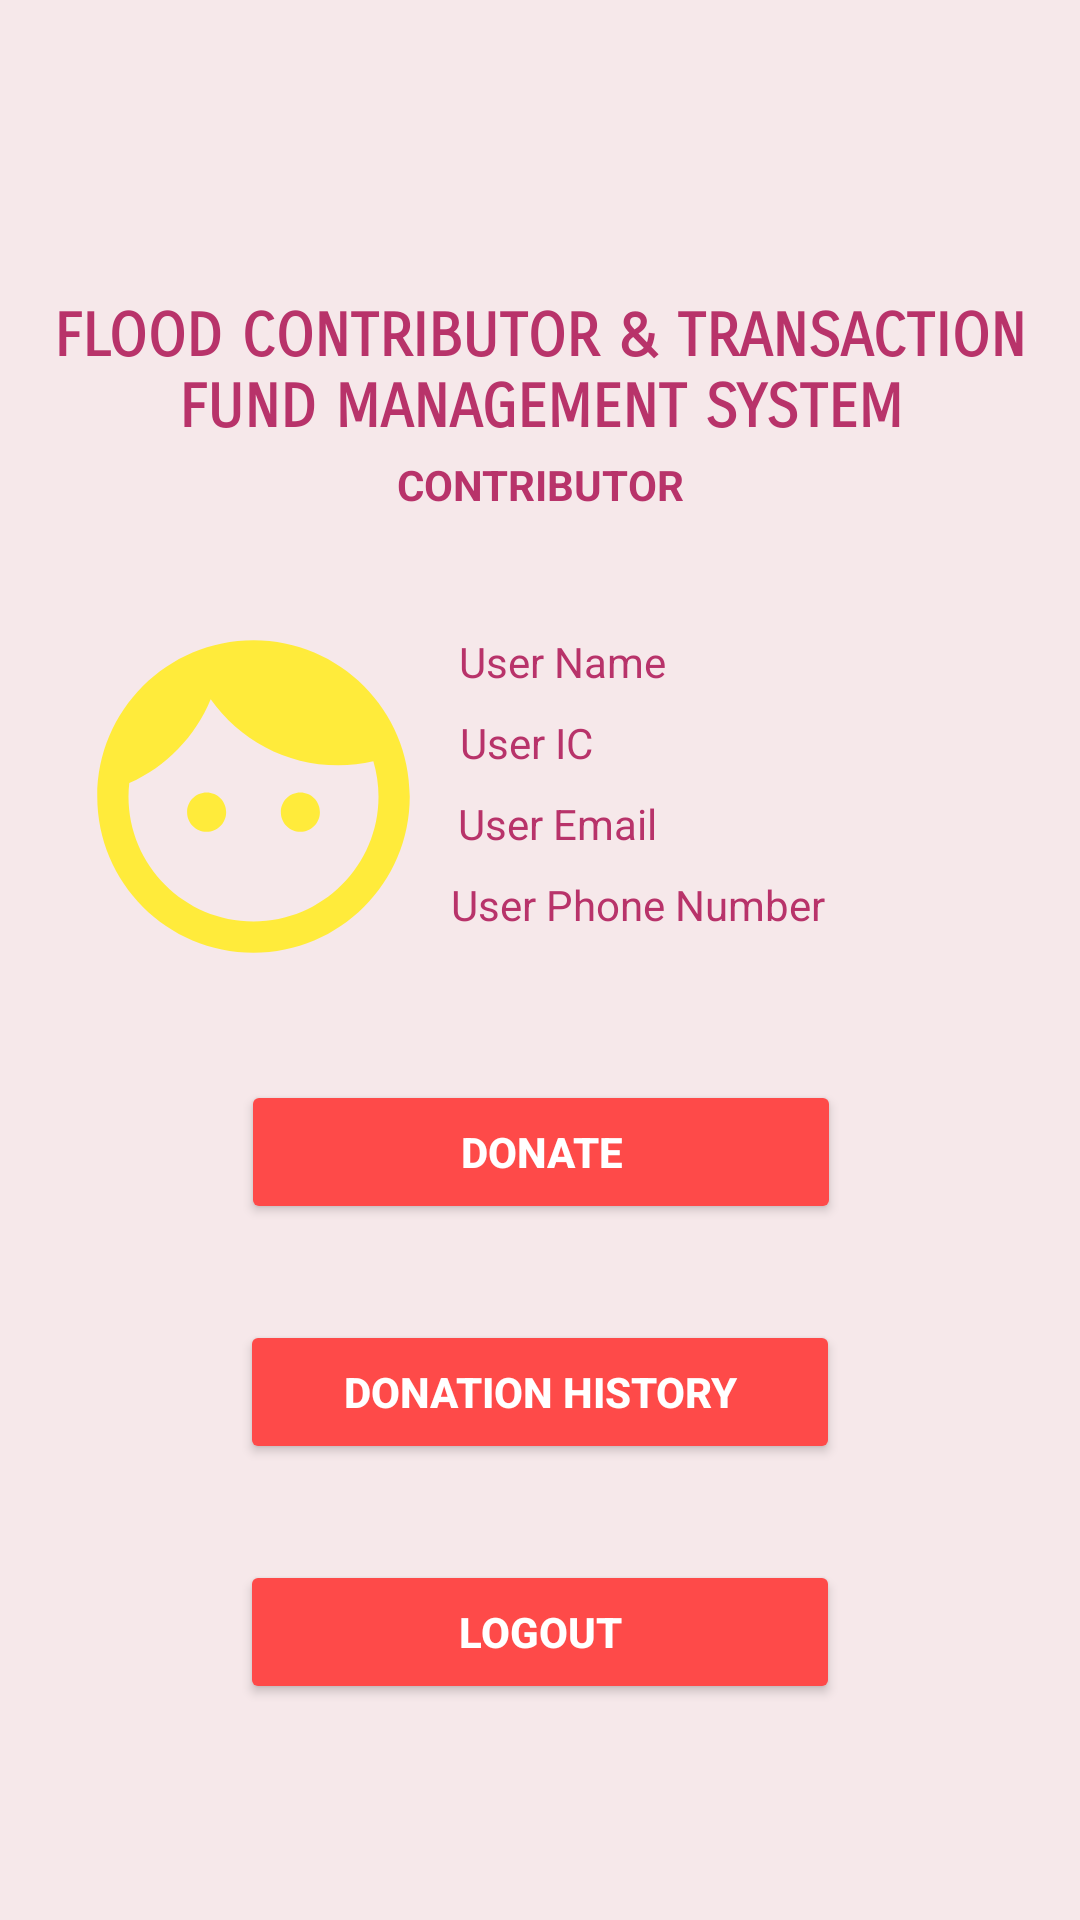

Icons on this 1080×1920 Android screen, each with its box as (x1, y1, x2, y2):
Profile Picture: (97, 640, 410, 953)
